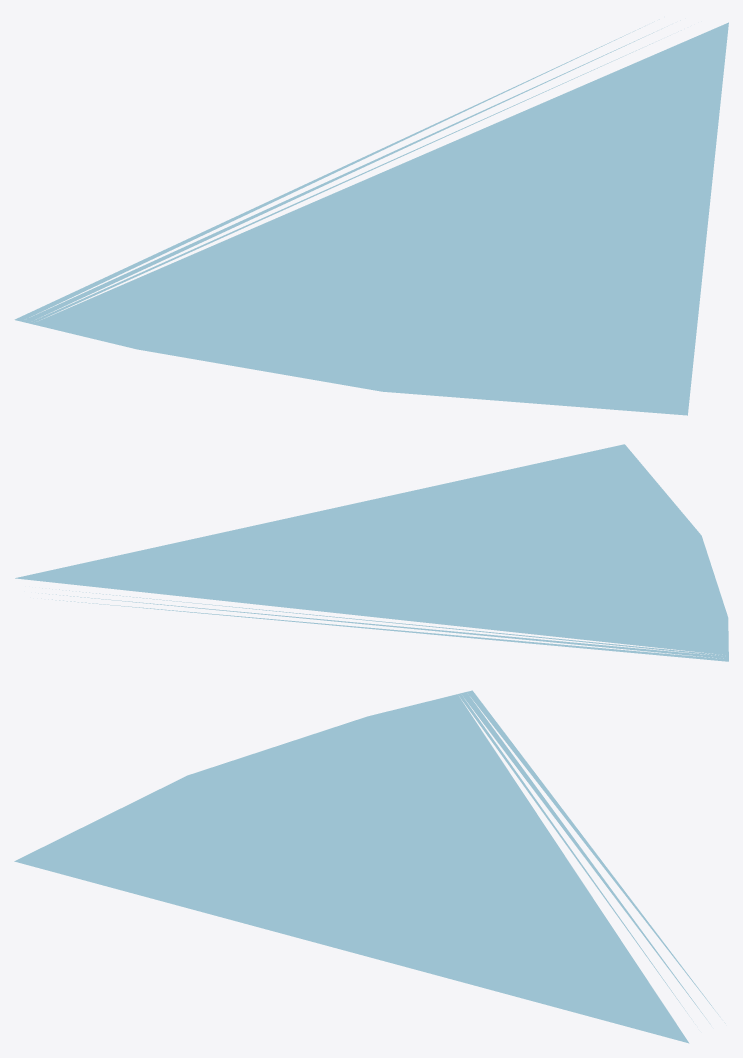
File: terrain-context-C-x-1-z0.glb
The picture shows the model from 3 angles, top to bottom: view 1: azimuth 30°, elevation 25°; view 2: azimuth 150°, elevation 25°; view 3: azimuth 270°, elevation 25°; orthographic projection. The views are drawn at different scales.
Parts seen in each view (by area): view 1: C-x-1-z0; view 2: C-x-1-z0; view 3: C-x-1-z0.
Part boxes in pixels (x1=…): C-x-1-z0: x1=14, y1=19, x2=728, y2=415; C-x-1-z0: x1=15, y1=444, x2=728, y2=661; C-x-1-z0: x1=14, y1=690, x2=725, y2=1043.
Size of the model in its own units: 256 by 2.94e-05 by 219.
